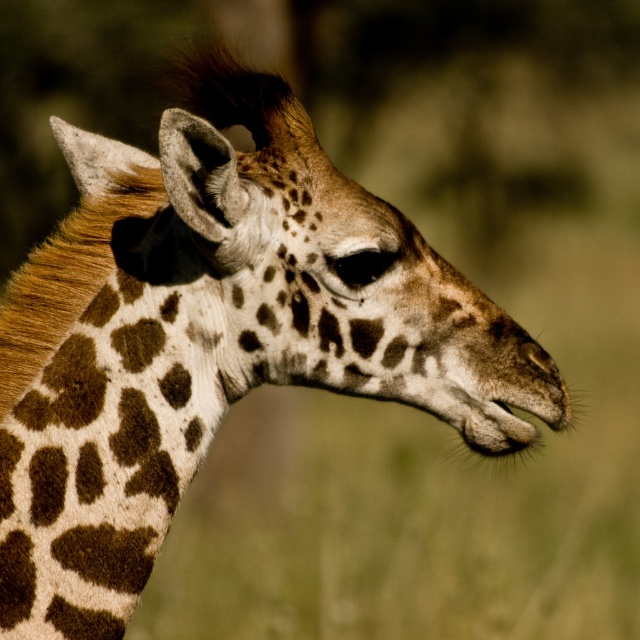Giraffe: (1, 80, 575, 624)
